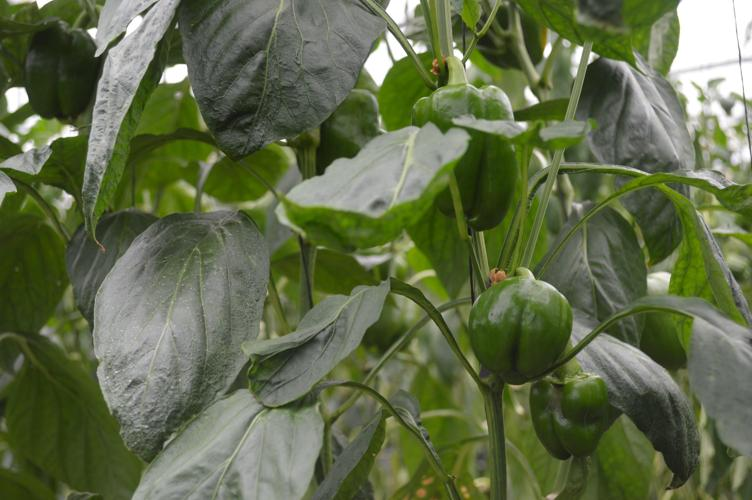BellPepper: (412, 78, 518, 234), (464, 268, 569, 385), (523, 374, 610, 464), (309, 97, 387, 183)
